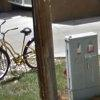Bicycle: (1, 16, 37, 85)
